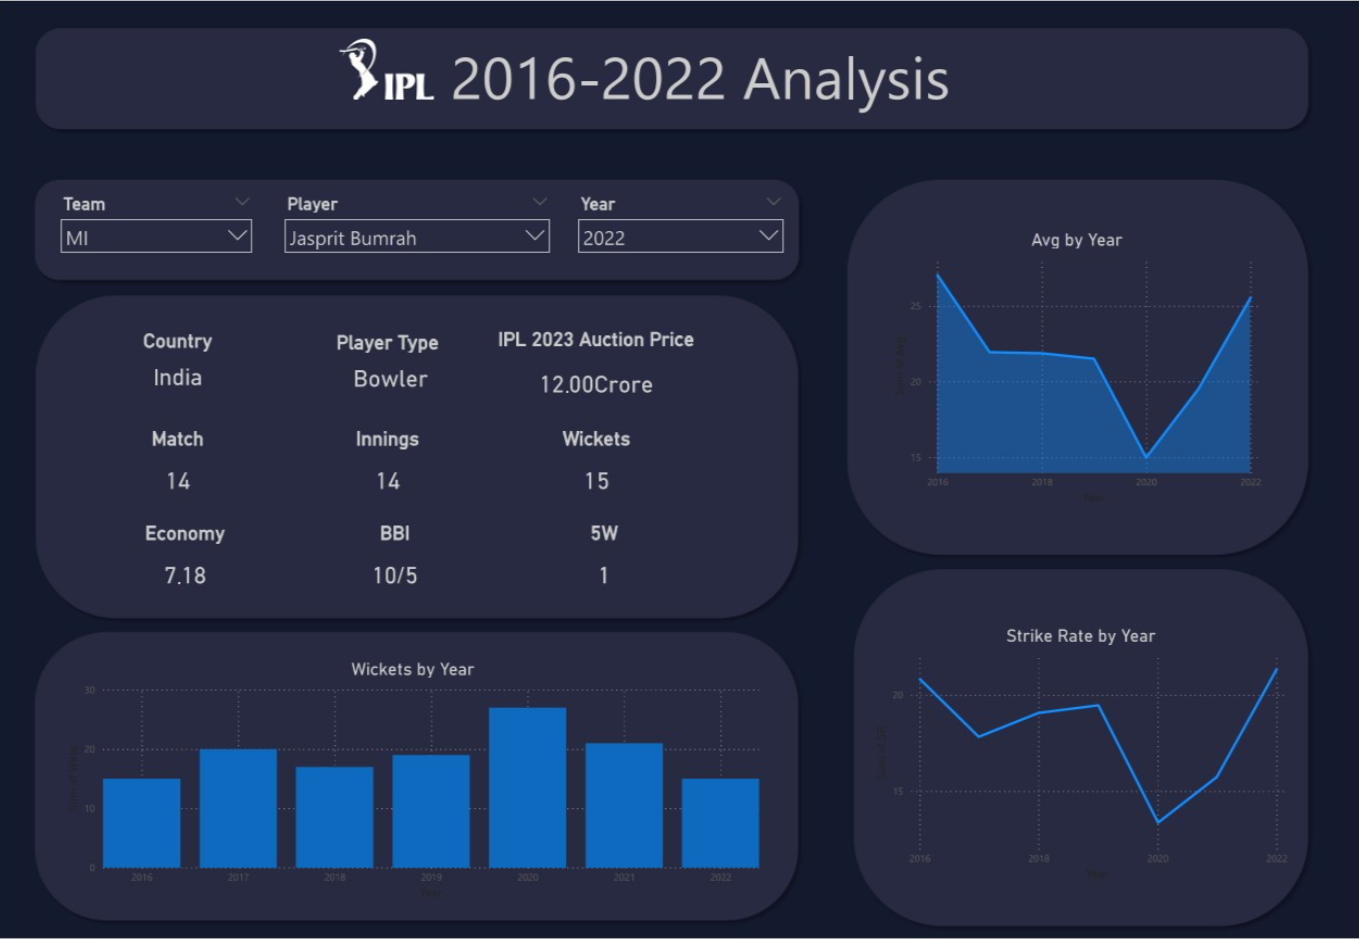

Layout of this report page (visuals, bound fields, positions):
{"tool":"powerbi","page":{"name":"Bowler","canvas":[1670,1150],"ordinal":1},"visuals":[{"type":"shape","box":[36,24,1580,142],"z":0},{"type":"shape","box":[1032,210,584,478],"z":1000},{"type":"shape","box":[1040,688,576,456],"z":2000},{"type":"shape","box":[35,765,955,371.7],"z":3000},{"type":"shape","box":[36,352,954,414],"z":4000},{"type":"shape","box":[34.7,209.7,956.7,141.7],"z":5000},{"type":"card","title":"Innings","fields":{"Values":["Bowler Stats.Inns"]},"box":[386.3,523,181.7,100],"z":6000},{"type":"card","title":"Match","fields":{"Values":["Bowler Stats.Mat"]},"box":[118,523,203.3,100],"z":7000},{"type":"card","title":"Wickets","fields":{"Values":["Bowler Stats.Wkts"]},"box":[606.3,523,255,100],"z":8000},{"type":"slicer","fields":{"Values":["Bowler Stats.player_name"]},"box":[341.3,231.3,345,93.3],"z":9000},{"type":"card","title":"Player Type","fields":{"Values":["Bowler Stats.player_type"]},"box":[386.3,404.7,181.7,85],"z":10000},{"type":"card","title":"IPL 2023 Auction Price","fields":{"Values":["Bowler Stats.player_auction_price"]},"box":[604.7,401.3,256.7,106.7],"z":11000},{"type":"card","title":"Country","fields":{"Values":["Bowler Stats.player_country"]},"box":[118,403,203.3,85],"z":12000},{"type":"slicer","fields":{"Values":["Bowler Stats.ipl_team"]},"box":[66.3,231.3,255,93.3],"z":13000},{"type":"clusteredColumnChart","title":"Wickets by Year","fields":{"Y":["Bowler Stats.Wkts"],"Category":["Bowler Stats.Year"]},"box":[78.3,806.7,860,300],"z":14000},{"type":"lineChart","title":"Strike Rate by Year","fields":{"Y":["Bowler Stats.SR"],"Category":["Bowler Stats.Year"]},"box":[1070,766,516,318],"z":15000},{"type":"slicer","fields":{"Values":["Bowler Stats.Year"]},"box":[701.3,231.3,271.7,93.3],"z":16000},{"type":"textbox","box":[536.7,36.7,648.3,115],"z":17000},{"type":"image","box":[411.7,23.3,128.3,120],"z":18000},{"type":"card","title":"BBI","fields":{"Values":["Bowler Stats.BBI"]},"box":[395,639,181.7,100],"z":19000},{"type":"card","title":"Economy","fields":{"Values":["Bowler Stats.Econ"]},"box":[126.7,639,203.3,100],"z":20000},{"type":"card","title":"5W","fields":{"Values":["Bowler Stats.5w"]},"box":[615,639,255,100],"z":21000},{"type":"areaChart","title":"Avg by Year","fields":{"Y":["Bowler Stats.Avg"],"Category":["Bowler Stats.Year"]},"box":[1092,280,462,342],"z":22000}]}

Visuals, with their boxes in screenshot pixels (x1, y1, x2, y2), scaled from the page's 1670x1150 canvas onto the 1359x940 screenshot:
shape: bbox=(29, 20, 1315, 136)
shape: bbox=(840, 172, 1315, 562)
shape: bbox=(846, 562, 1315, 935)
shape: bbox=(28, 625, 806, 929)
shape: bbox=(29, 288, 806, 626)
shape: bbox=(28, 171, 807, 287)
"Innings" card: bbox=(314, 427, 462, 509)
"Match" card: bbox=(96, 427, 261, 509)
"Wickets" card: bbox=(493, 427, 701, 509)
slicer - Bowler Stats.player_name: bbox=(278, 189, 558, 265)
"Player Type" card: bbox=(314, 331, 462, 400)
"IPL 2023 Auction Price" card: bbox=(492, 328, 701, 415)
"Country" card: bbox=(96, 329, 261, 399)
slicer - Bowler Stats.ipl_team: bbox=(54, 189, 261, 265)
"Wickets by Year" clusteredColumnChart: bbox=(64, 659, 764, 905)
"Strike Rate by Year" lineChart: bbox=(871, 626, 1291, 886)
slicer - Bowler Stats.Year: bbox=(571, 189, 792, 265)
textbox: bbox=(437, 30, 964, 124)
image: bbox=(335, 19, 439, 117)
"BBI" card: bbox=(321, 522, 469, 604)
"Economy" card: bbox=(103, 522, 269, 604)
"5W" card: bbox=(500, 522, 708, 604)
"Avg by Year" areaChart: bbox=(889, 229, 1265, 508)
